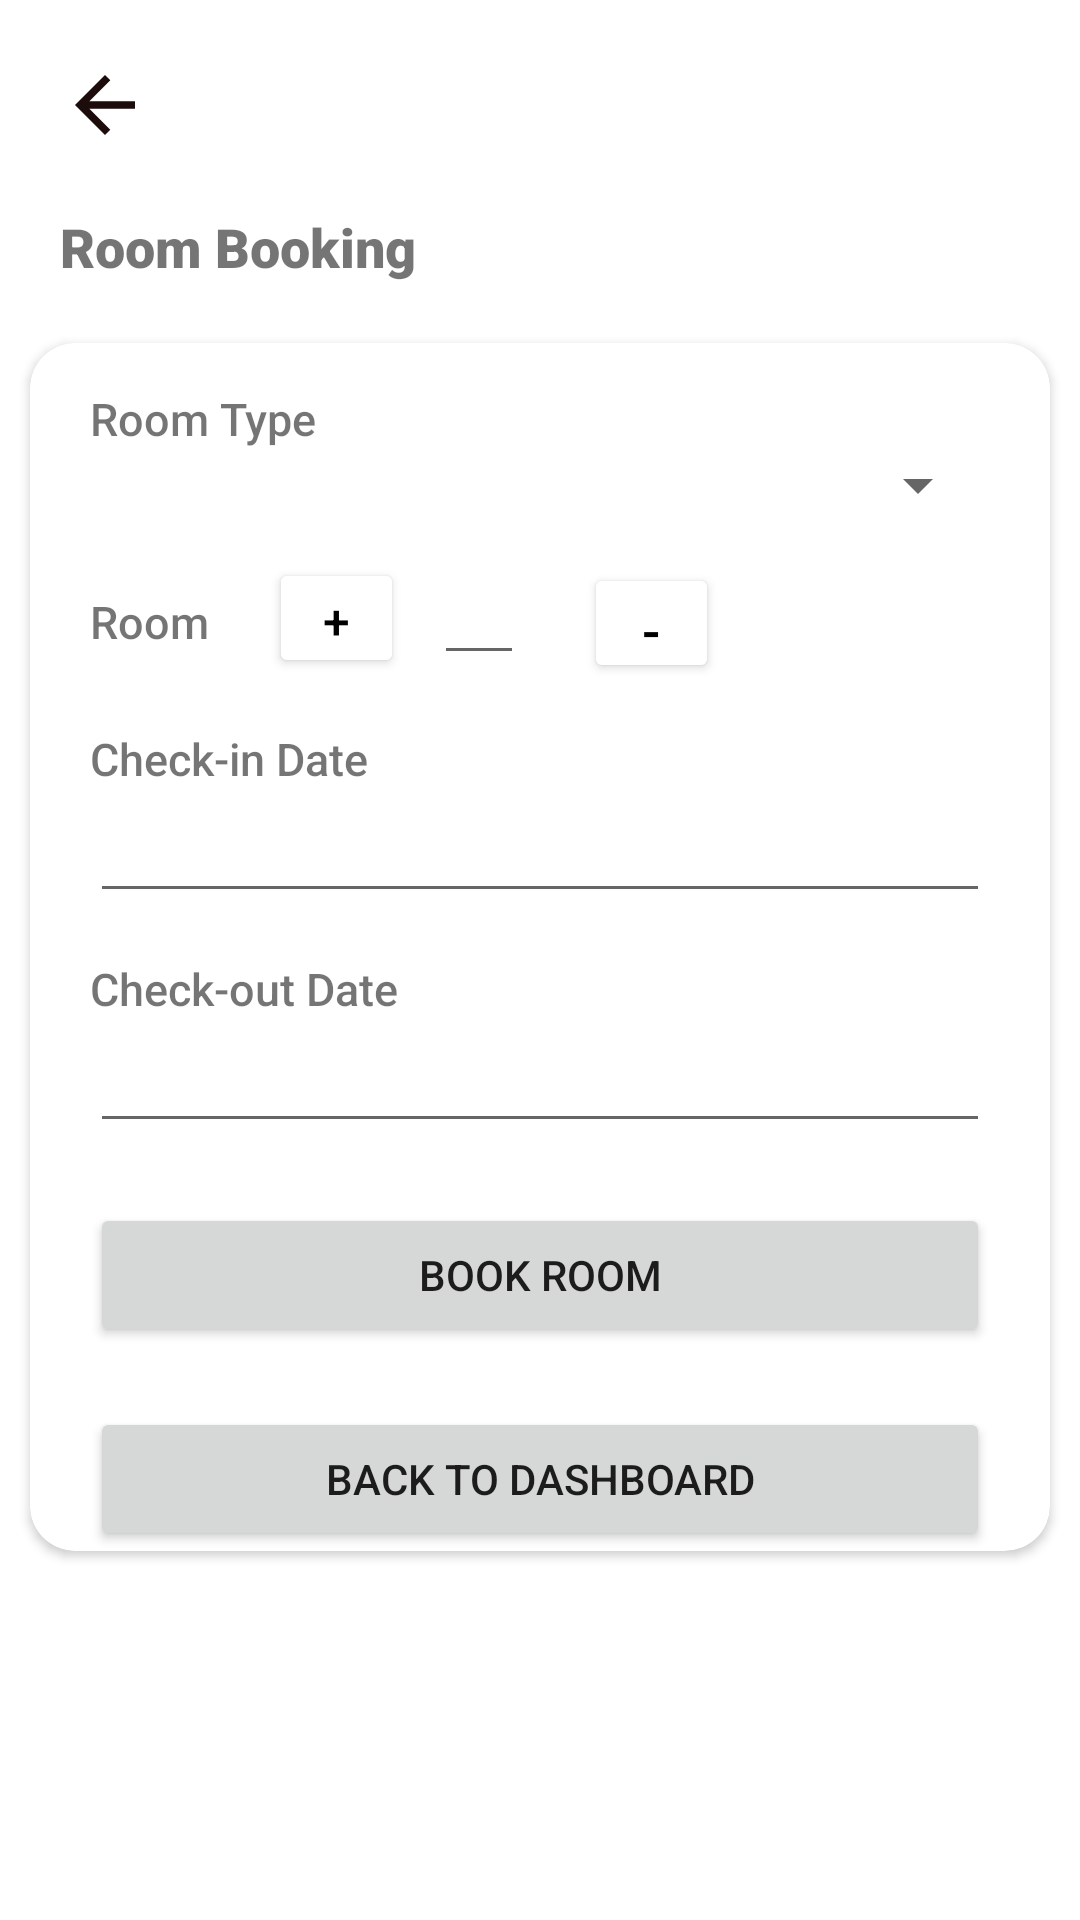

Point at icon controls on the screen. Image size 1080px x 1920px, points as point (x, y).
arrow back: point (105, 105)
